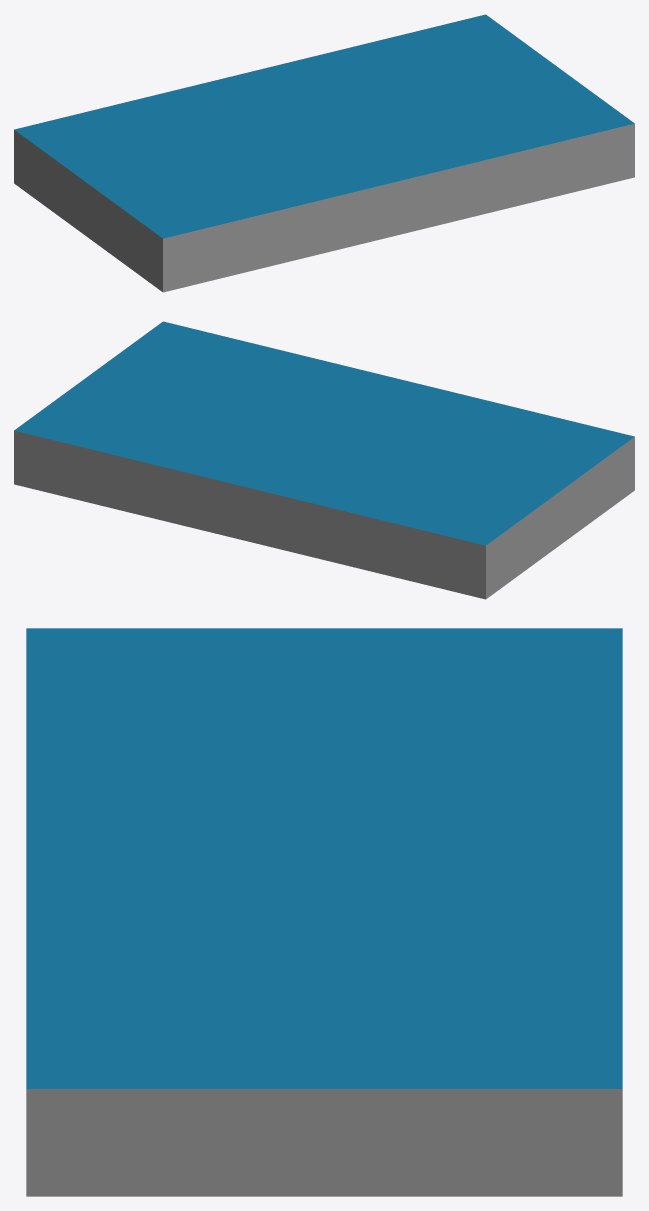
The model's file is Ground_Multiplier_B.fbx.
The picture shows the model from 3 angles, top to bottom: view 1: azimuth 30°, elevation 25°; view 2: azimuth 150°, elevation 25°; view 3: azimuth 270°, elevation 25°; orthographic projection. The views are drawn at different scales.
Visible parts, largest first — view 1: Ground_Multiplier_B; view 2: Ground_Multiplier_B; view 3: Ground_Multiplier_B.
Part boxes in pixels (x1,y1,x2,y2): Ground_Multiplier_B: (14,14,634,292); Ground_Multiplier_B: (14,321,634,599); Ground_Multiplier_B: (26,628,622,1196).
Size of the model in its own units: 298 by 32.46 by 163.
